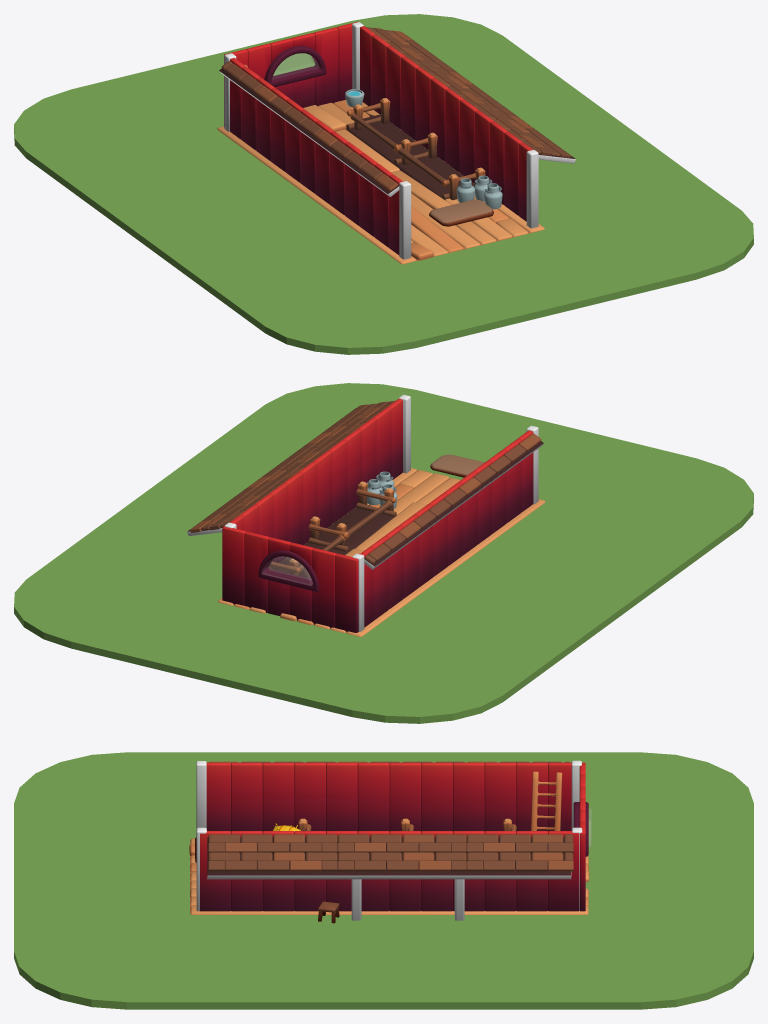
The model's file is CowBase.fbx.
3 views of the same model, one above another, from view 1: azimuth 30°, elevation 25°; view 2: azimuth 150°, elevation 25°; view 3: azimuth 270°, elevation 25° (orthographic). The views are drawn at different scales.
Parts seen in each view (by area): view 1: Cube.104, Cube.012, Cube.024, Cylinder.064, Cube.021, Circle.005, Cube.013, Cube.035, Cylinder.075, Cube.052, Cube.026, Cube.027; view 2: Cube.104, Cube.012, Cube.024, Cylinder.064, Circle.005, Cube.021, Cube.013, Cube.026, Cube.052, Cube.035, Cube.027, Cylinder.075; view 3: Cube.104, Cube.012, Cube.013, Cube.024, Cube.021, Cube.017, Cube.044, Cube.042, Cube.015, Cube.025, Cube.019, Cube.016 (+8 smaller).
Part boxes in pixels (bbox=[...]): Cube.104: bbox=[14, 14, 753, 354]; Cube.012: bbox=[224, 21, 532, 255]; Cube.024: bbox=[217, 100, 544, 264]; Cylinder.064: bbox=[346, 98, 485, 200]; Cube.021: bbox=[224, 22, 538, 259]; Circle.005: bbox=[264, 46, 326, 87]; Cube.013: bbox=[219, 36, 575, 196]; Cube.035: bbox=[429, 199, 493, 226]; Cylinder.075: bbox=[456, 175, 502, 209]; Cube.052: bbox=[330, 140, 398, 191]; Cube.026: bbox=[270, 96, 337, 147]; Cube.027: bbox=[221, 61, 277, 103]; Cube.104: bbox=[14, 383, 753, 723]; Cube.012: bbox=[222, 399, 533, 632]; Cube.024: bbox=[218, 468, 545, 636]; Cylinder.064: bbox=[269, 481, 396, 579]; Circle.005: bbox=[258, 550, 319, 591]; Cube.021: bbox=[224, 394, 538, 631]; Cube.013: bbox=[187, 408, 543, 569]; Cube.026: bbox=[413, 477, 481, 528]; Cube.052: bbox=[473, 433, 541, 484]; Cube.035: bbox=[430, 454, 484, 477]; Cube.027: bbox=[364, 521, 420, 563]; Cylinder.075: bbox=[367, 471, 397, 508]; Cube.104: bbox=[14, 752, 753, 1009]; Cube.012: bbox=[200, 762, 585, 911]; Cube.013: bbox=[207, 837, 571, 879]; Cube.024: bbox=[189, 838, 589, 914]; Cube.021: bbox=[196, 760, 582, 911]; Cube.017: bbox=[337, 860, 466, 871]; Cube.044: bbox=[208, 860, 337, 871]; Cube.042: bbox=[208, 842, 337, 853]; Cube.015: bbox=[337, 842, 466, 853]; Cube.025: bbox=[466, 860, 573, 871]; Cube.019: bbox=[466, 842, 573, 853]; Cube.016: bbox=[337, 834, 466, 844].
Size of the model in its own units: 11.6 by 1.92 by 14.53.
